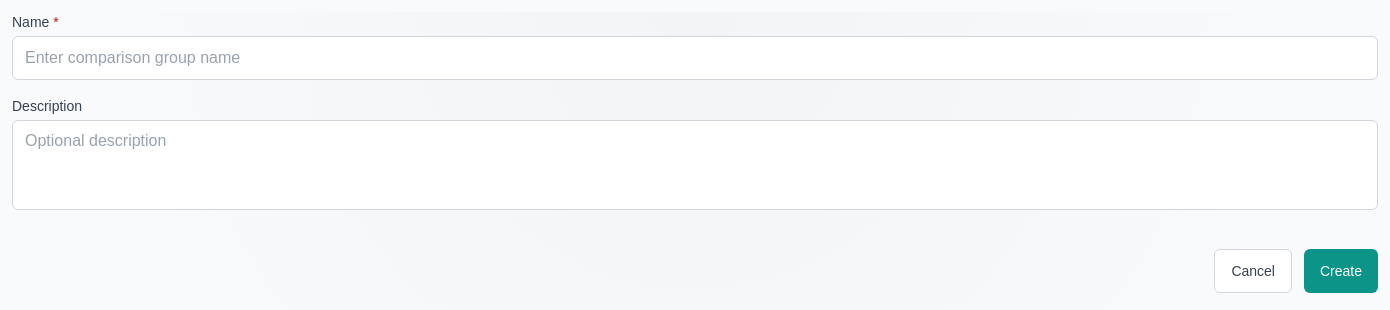
it: ComparisonForm › loading state › should show loading spinner during submission
In the field labelled "Name *": [695, 58] box [12,36,1378,80], type "Test"
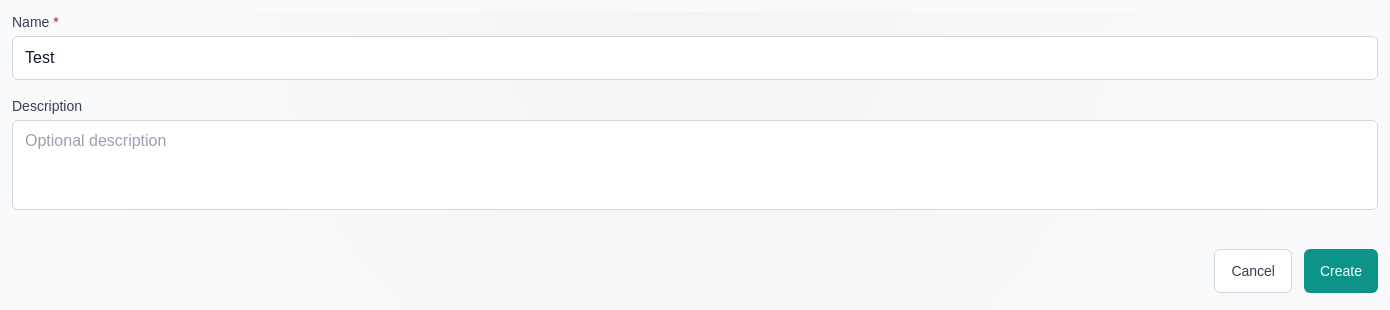
Submit the form "Create"
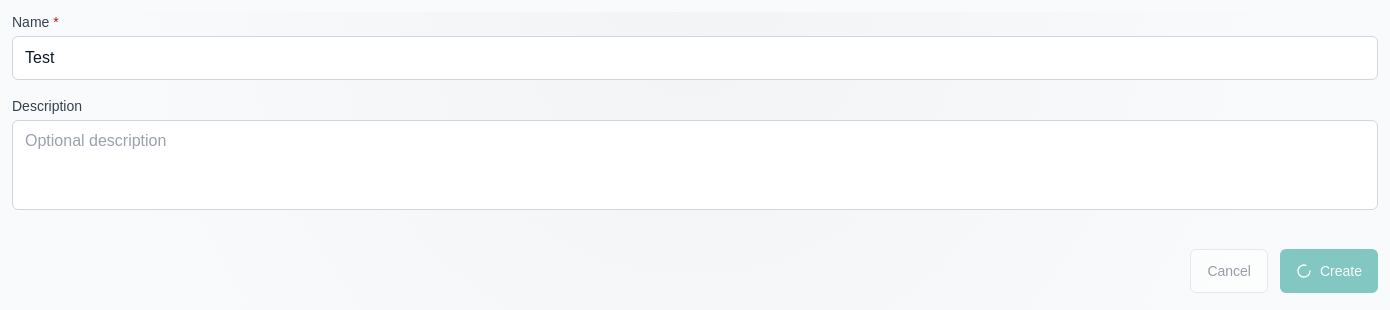
Expected: the icon with class "animate-spin" is shown, [1296,263,1312,279]
